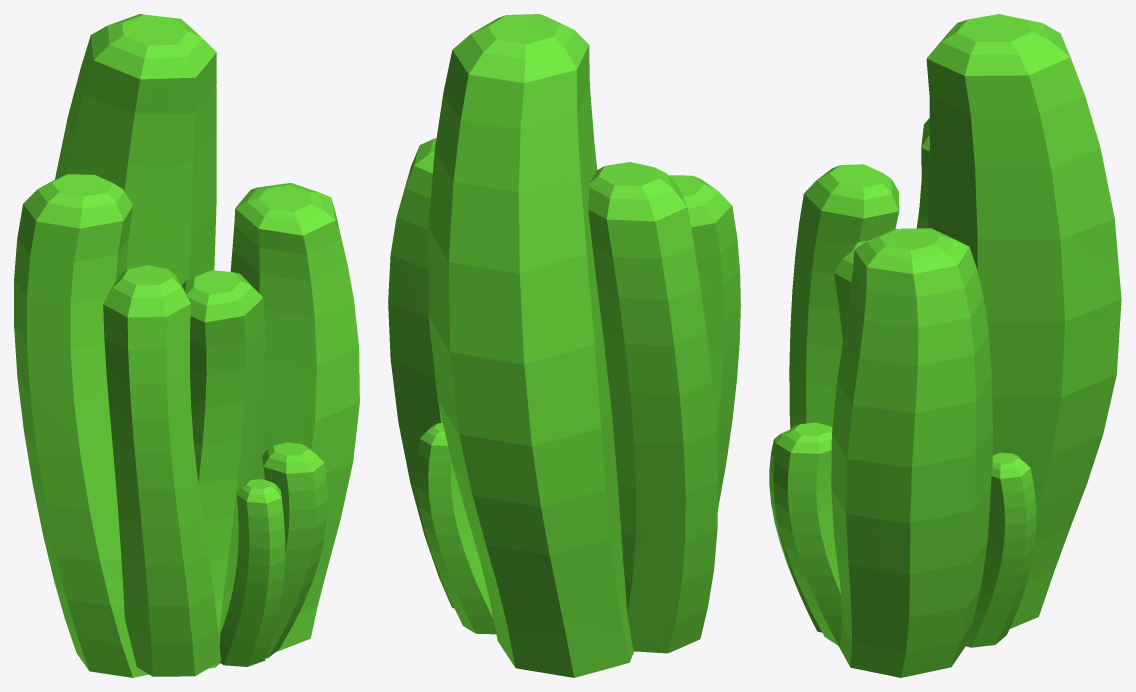
Rendered from Cactus2.fbx.
3 views of the same model, side by side, from view 1: azimuth 30°, elevation 25°; view 2: azimuth 150°, elevation 25°; view 3: azimuth 270°, elevation 25° (orthographic). The views are drawn at different scales.
Visible parts, largest first — view 1: Captus3; view 2: Captus3; view 3: Captus3.
Boxes of the visible parts, x1=… form: Captus3: x1=14, y1=14, x2=359, y2=677; Captus3: x1=388, y1=14, x2=740, y2=677; Captus3: x1=769, y1=14, x2=1121, y2=677.
Bounding box in the file's own units: 259 × 466 × 249.
